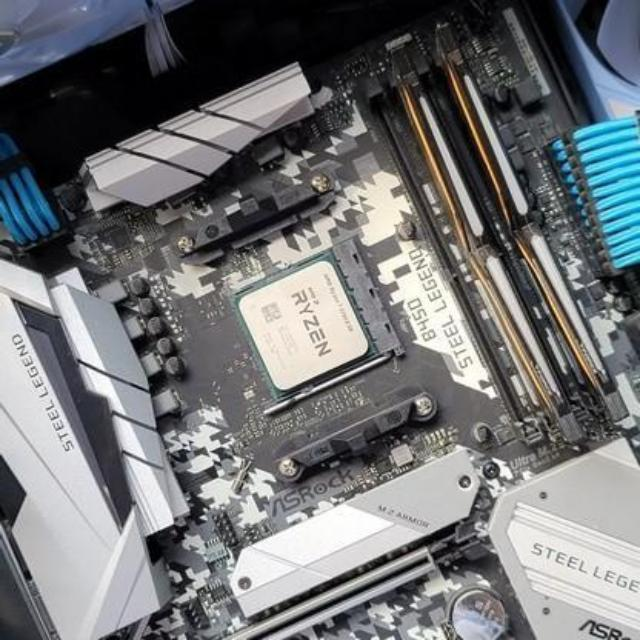CPU: (242, 262, 374, 390)
Mainboard: (0, 12, 640, 640)
